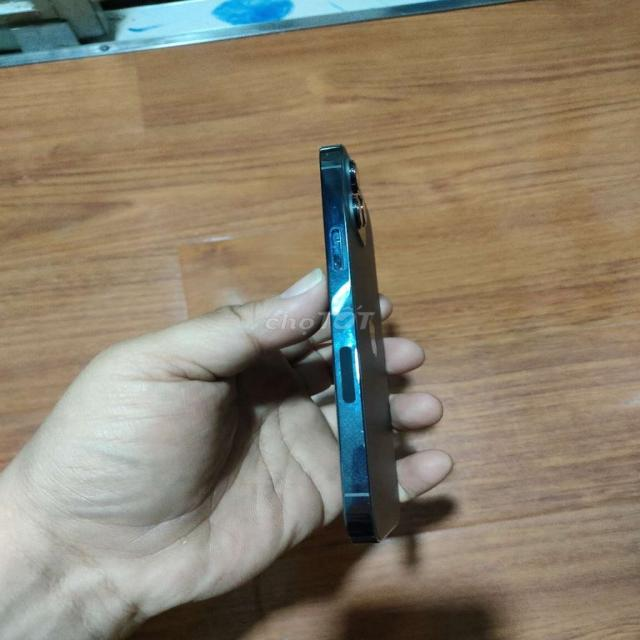gen_12_13: (293, 133, 411, 545)
